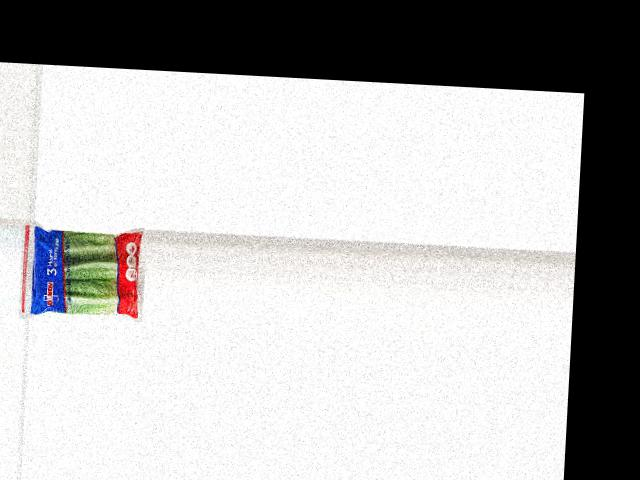lettuce: (27, 224, 147, 321)
